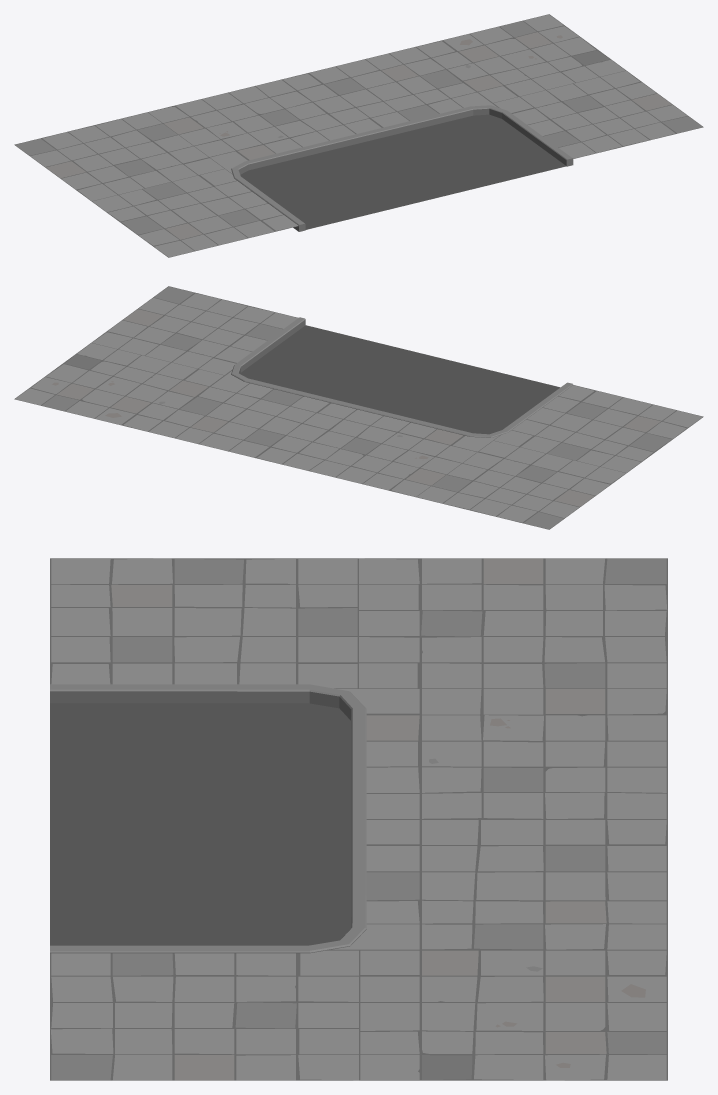
The model's file is Road_04.glb.
3 renders of one model, top to bottom at view 1: azimuth 30°, elevation 25°; view 2: azimuth 150°, elevation 25°; view 3: azimuth 270°, elevation 25°, orthographic. The views are drawn at different scales.
Parts seen in each view (by area): view 1: Road_04; view 2: Road_04; view 3: Road_04.
Part boxes in pixels (x1,y1,x2,y2): Road_04: (14, 14, 703, 257); Road_04: (14, 286, 703, 529); Road_04: (50, 558, 667, 1080).
Size of the model in its own units: 12 by 0.15 by 6.
Materials: 1 (1 with a texture image).
